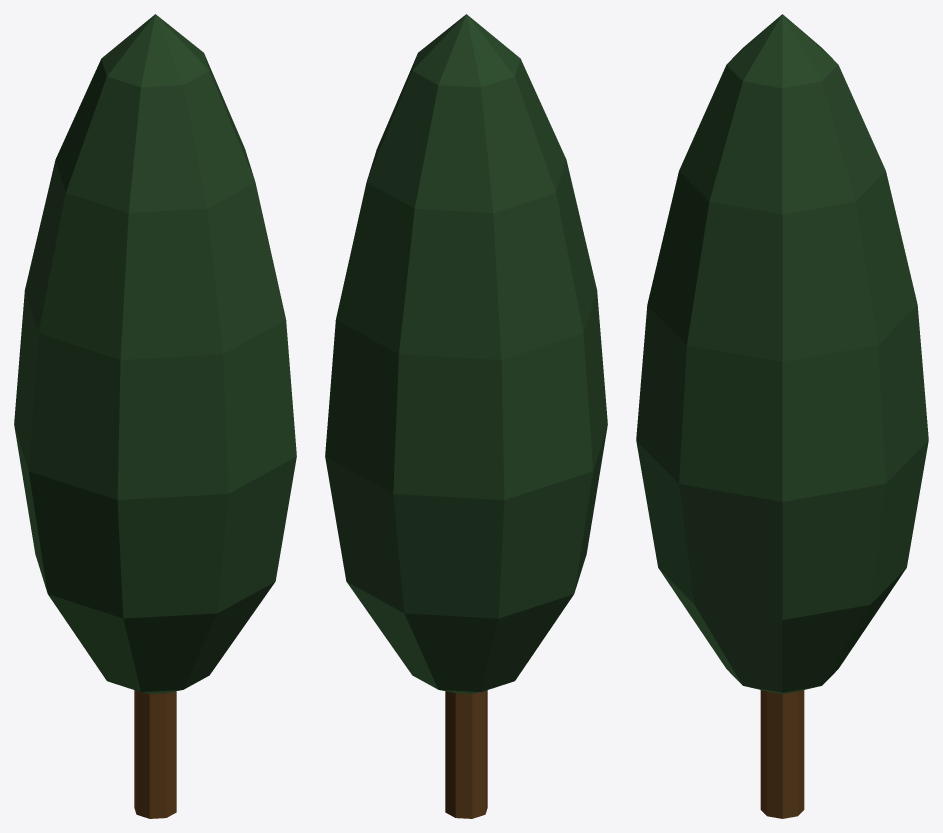
Rendered from Prop_Decorative_Tree_Cedar_1.obj.
3 views of the same model, side by side, from view 1: azimuth 30°, elevation 25°; view 2: azimuth 150°, elevation 25°; view 3: azimuth 270°, elevation 25° (orthographic).
Parts seen in each view (by area): view 1: Leaves, Trunk; view 2: Leaves, Trunk; view 3: Leaves, Trunk.
Part boxes in pixels (bbox=[...]): Leaves: bbox=[14, 14, 296, 693]; Trunk: bbox=[134, 690, 176, 818]; Leaves: bbox=[325, 14, 607, 693]; Trunk: bbox=[445, 690, 487, 818]; Leaves: bbox=[636, 14, 928, 693]; Trunk: bbox=[760, 690, 804, 818].
Size of the model in its own units: 1 by 3 by 1.
